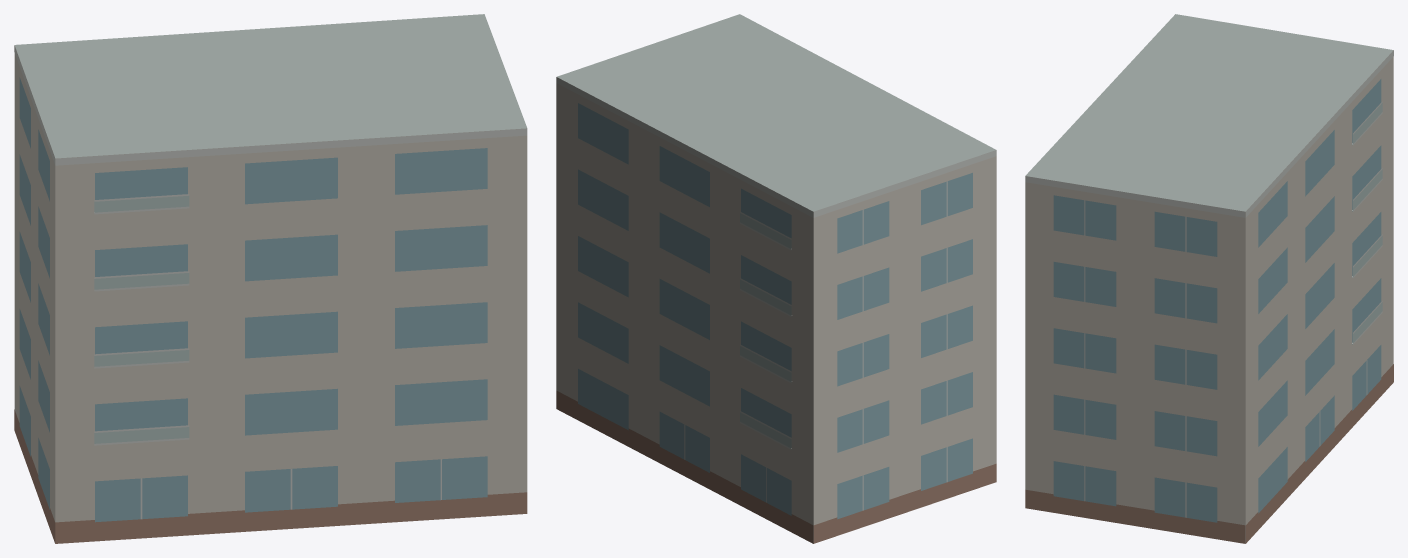
The model's file is survey-upis-32877243.glb.
3 renders of one model, left to right at view 1: azimuth 30°, elevation 25°; view 2: azimuth 150°, elevation 25°; view 3: azimuth 270°, elevation 25°, orthographic. The views are drawn at different scales.
Visible parts, largest first — view 1: survey-upis-32877243.tmp; view 2: survey-upis-32877243.tmp; view 3: survey-upis-32877243.tmp.
Boxes of the visible parts, left/top/right/bottom form: survey-upis-32877243.tmp: left=14, top=14, right=527, bottom=543; survey-upis-32877243.tmp: left=556, top=14, right=996, bottom=543; survey-upis-32877243.tmp: left=1025, top=14, right=1393, bottom=543.
Bounding box in the file's own units: 16.73 × 13.1 × 13.18.
